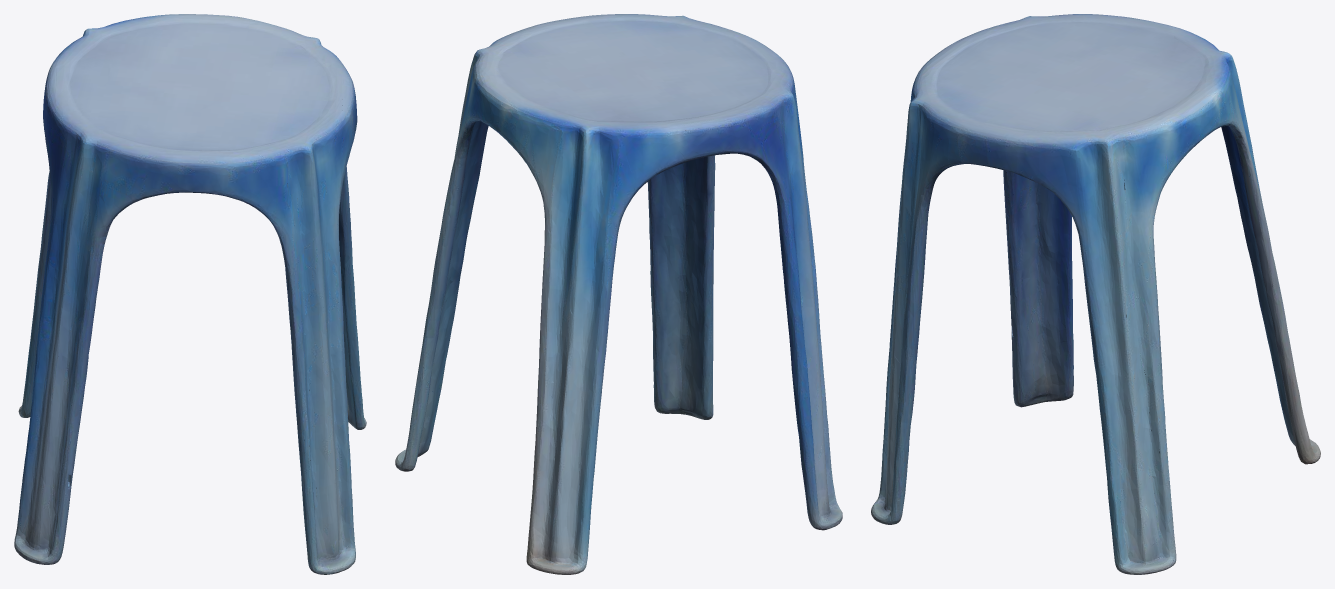
Rendered from blue_plastic_stool_on_the_left_000.glb.
3 views of the same model, side by side, from view 1: azimuth 30°, elevation 25°; view 2: azimuth 150°, elevation 25°; view 3: azimuth 270°, elevation 25° (orthographic).
Visible parts, largest first — view 1: blue_plastic_stool_on_the_left_000.obj; view 2: blue_plastic_stool_on_the_left_000.obj; view 3: blue_plastic_stool_on_the_left_000.obj.
Part boxes in pixels (<box>): blue_plastic_stool_on_the_left_000.obj: <box>14,14,366,574</box>; blue_plastic_stool_on_the_left_000.obj: <box>395,14,842,574</box>; blue_plastic_stool_on_the_left_000.obj: <box>871,14,1320,574</box>.
Bounding box in the file's own units: 0.178 × 0.1893 × 0.18.
Materials: 1 (1 with a texture image).
